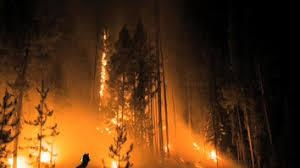fire: (2, 137, 62, 167), (97, 30, 112, 101), (207, 147, 219, 161)
